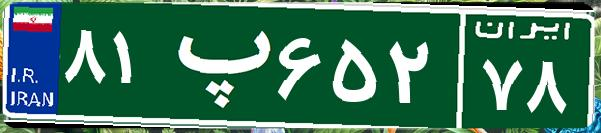1: (110, 28, 158, 105)
2: (385, 28, 445, 110)
5: (330, 28, 385, 110)
6: (273, 28, 330, 110)
7: (475, 38, 525, 113)
8: (57, 26, 110, 107), (525, 38, 570, 115)
پ: (158, 15, 273, 115)
